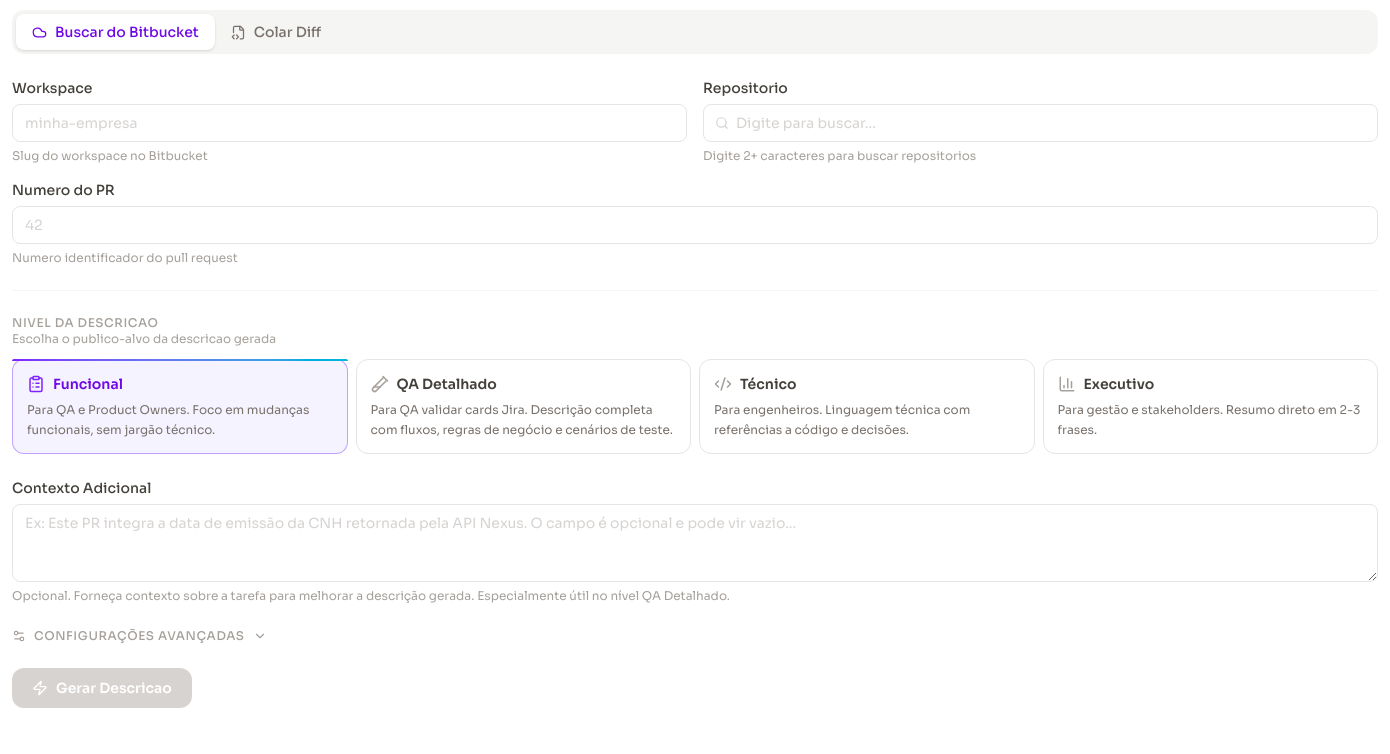
PrForm › enables submit when raw diff + PR title filled in manual mode
Click the button "Colar Diff". click: (276, 32)
box: [215,14,337,50]
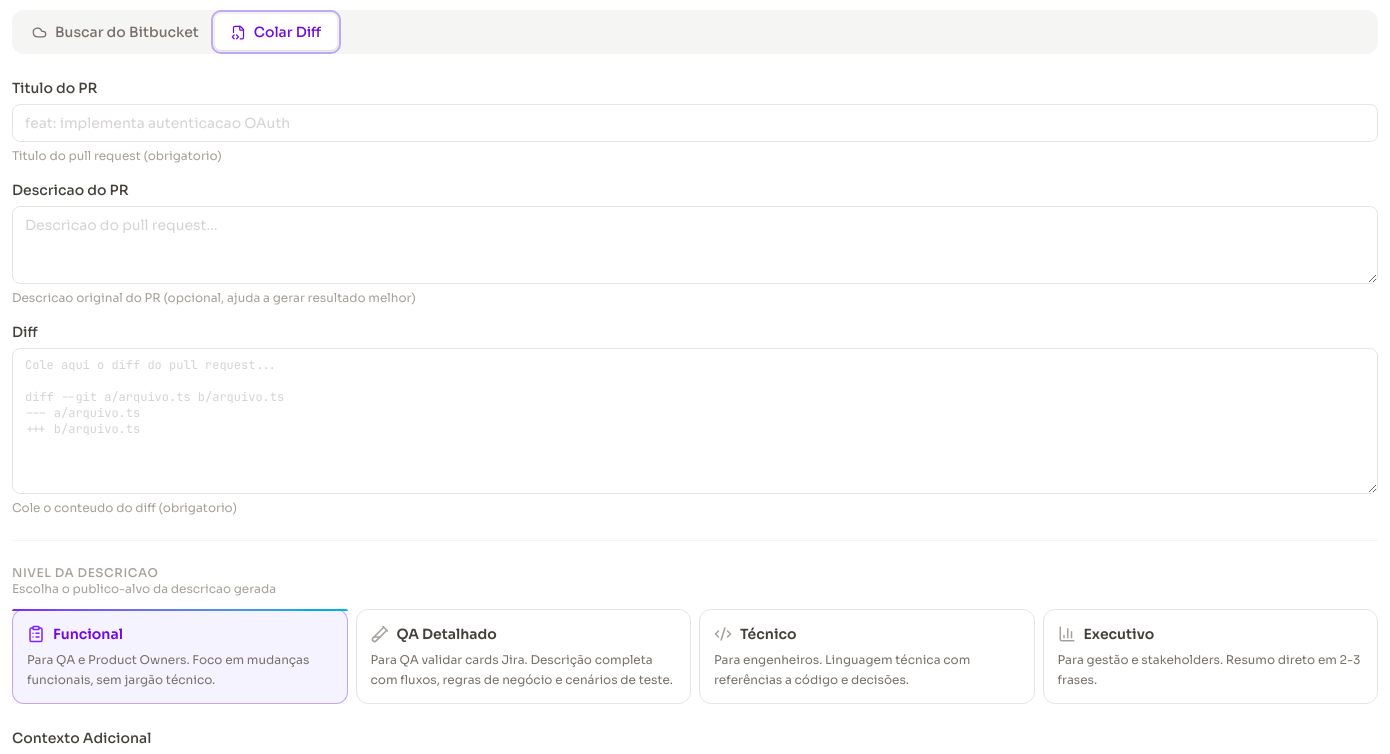
Type "My PR" into the field labelled "Titulo do PR". click: (695, 123)
box: [12,104,1378,142]
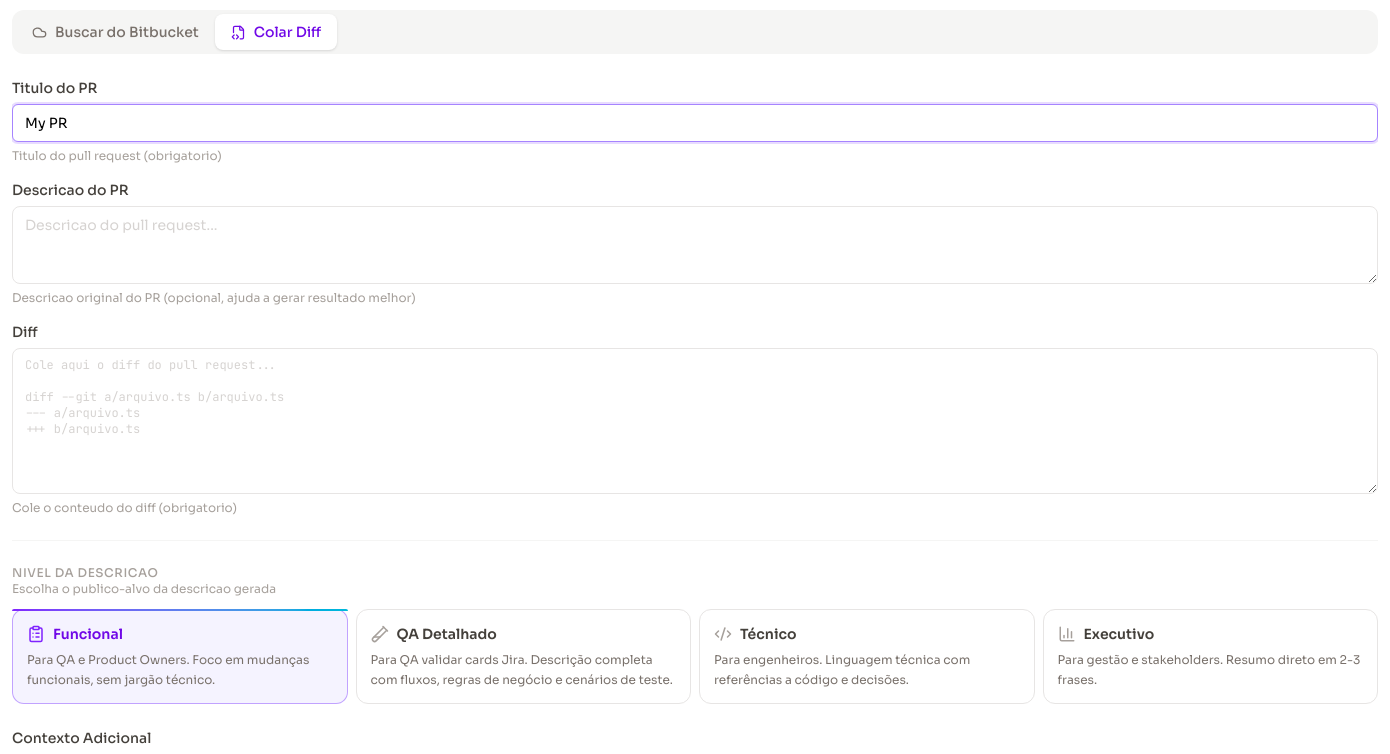
Type "diff --git a/main.go" into the text box labelled "Diff". click: (695, 421)
box: [12,348,1378,494]
(page scrolled)
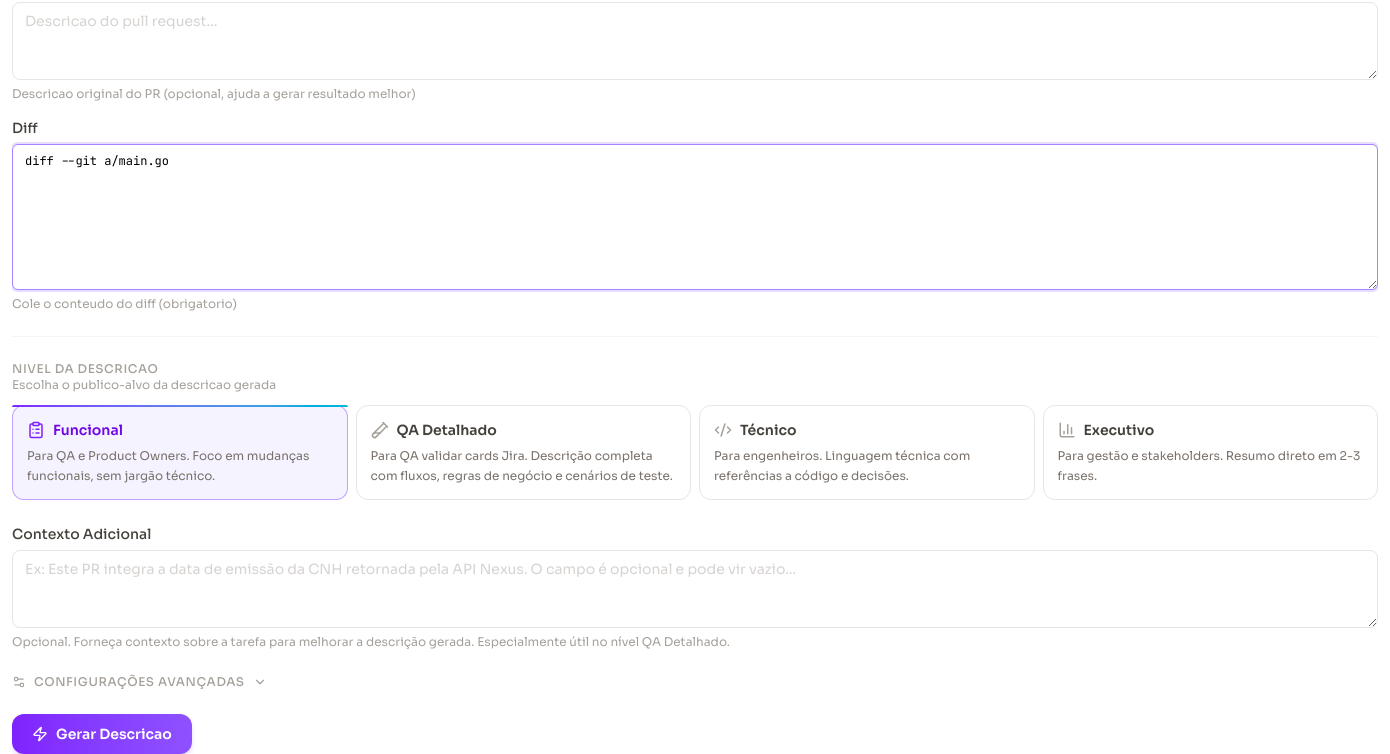
Now the button "Gerar Descricao" is enabled, box [12,714,192,753]
